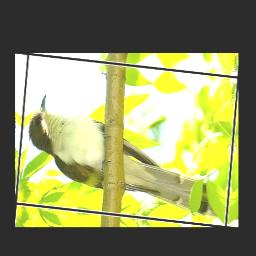Cuckoo: (22, 92, 230, 219)
